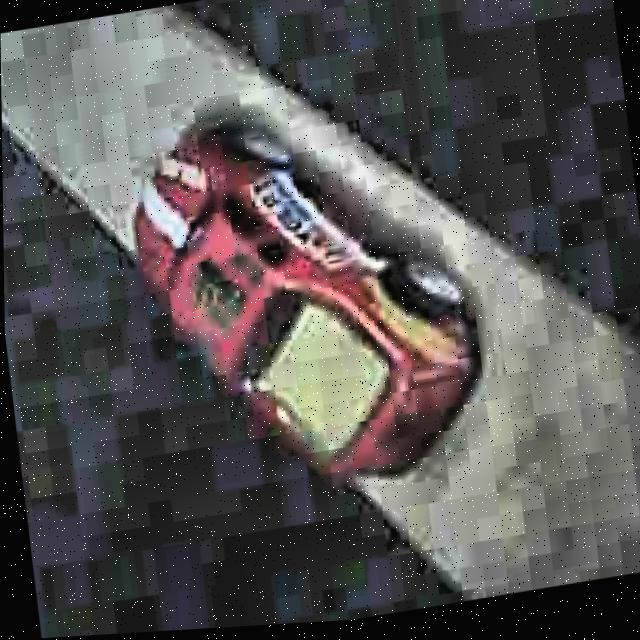car: (119, 80, 498, 519)
